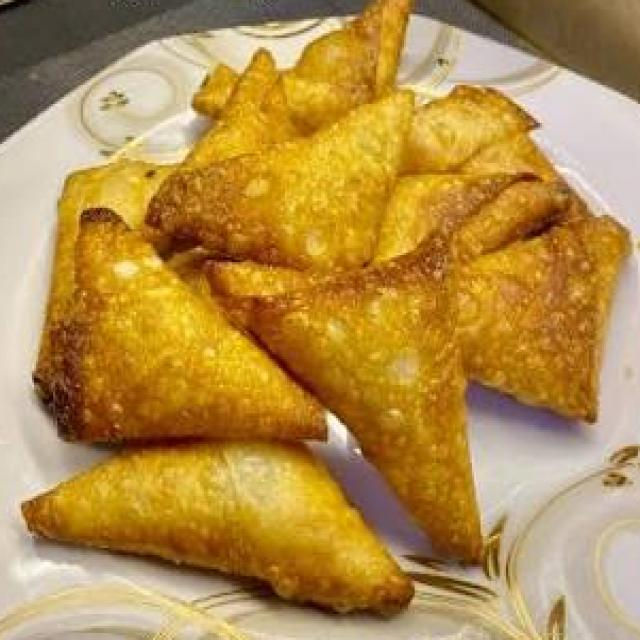Samboosa: (31, 9, 622, 600)
